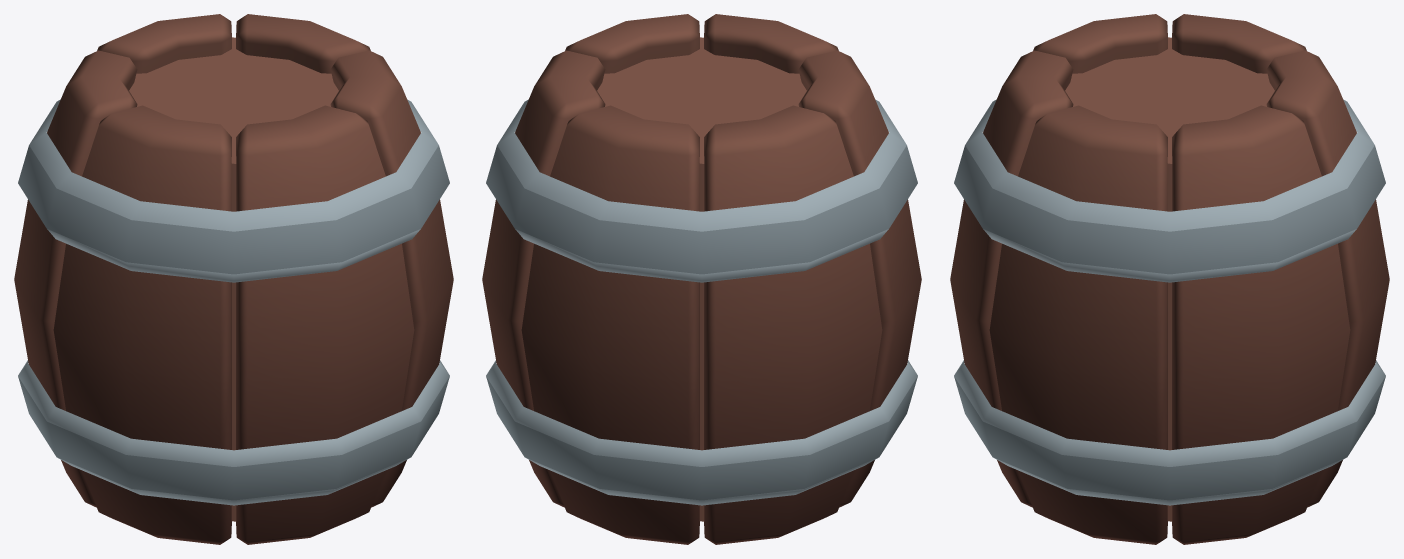
File: barrel_002.glb
The picture shows the model from 3 angles, left to right: view 1: azimuth 30°, elevation 25°; view 2: azimuth 150°, elevation 25°; view 3: azimuth 270°, elevation 25°; orthographic projection.
Parts seen in each view (by area): view 1: barrel_002; view 2: barrel_002; view 3: barrel_002.
Part boxes in pixels (x1,y1,x2,y2): barrel_002: [14, 14, 453, 544]; barrel_002: [482, 14, 921, 544]; barrel_002: [950, 14, 1389, 544].
Size of the model in its own units: 1.1 by 1.14 by 1.12.
Materials: 2 (2 with a texture image).
